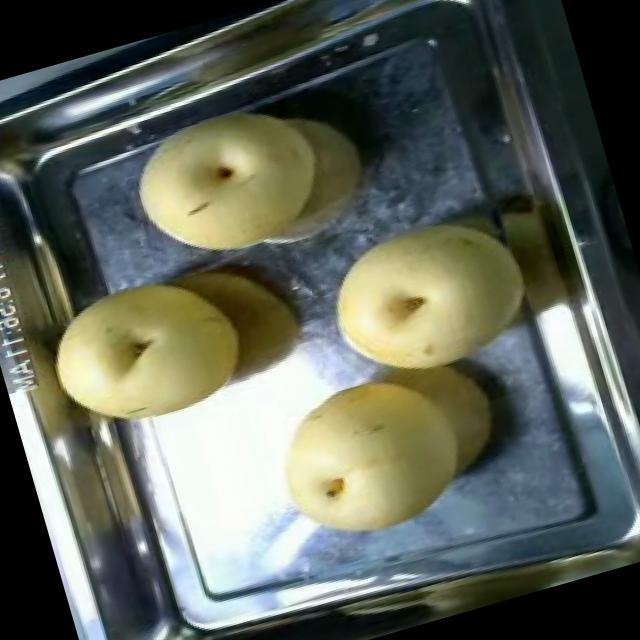Fruit: (109, 73, 394, 303), (250, 341, 524, 566), (298, 186, 552, 404), (24, 249, 270, 457)
